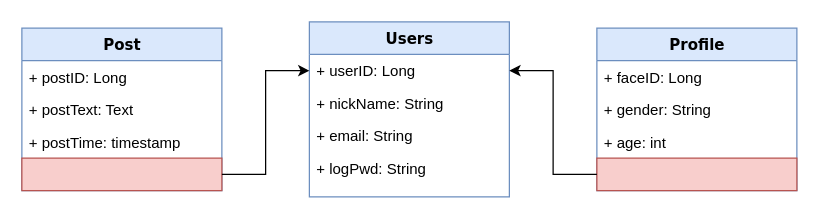
This 819x219 diagram has some shape labels left out. The centre of each missing label's shape, as x and y in pixels:
+ postUid: Long: the point at 121,174
+ uid: Long: the point at 696,174
